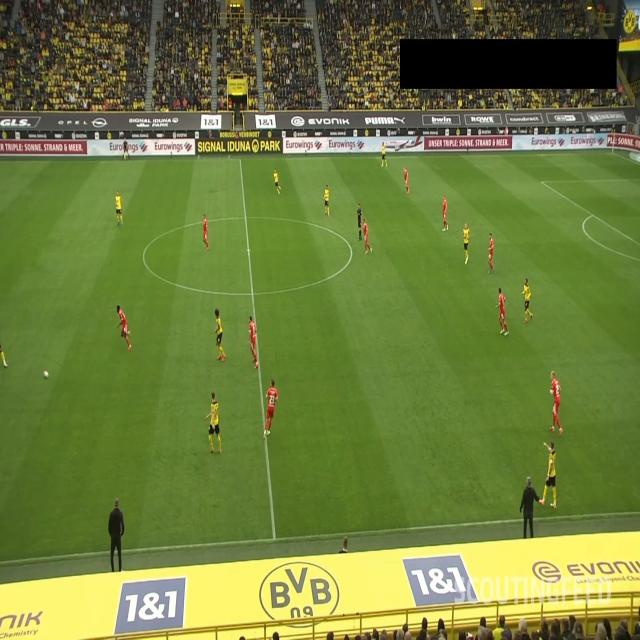ball: (43, 370, 49, 380)
